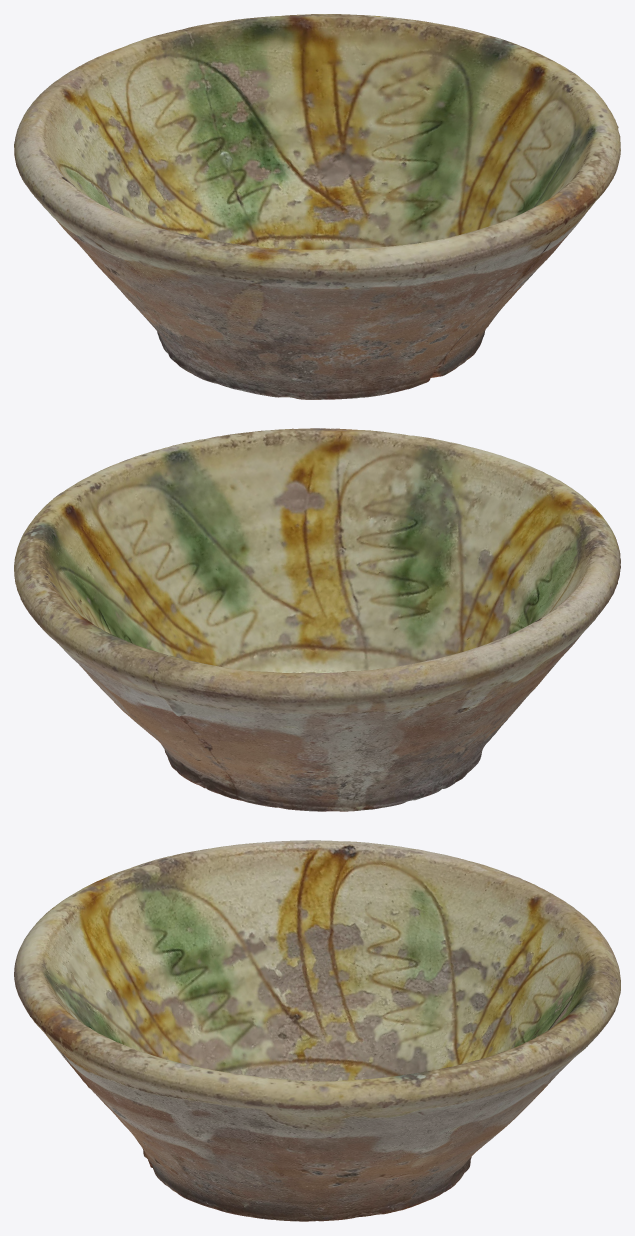
Rendered from bowl_0.glb.
The picture shows the model from 3 angles, top to bottom: view 1: azimuth 30°, elevation 25°; view 2: azimuth 150°, elevation 25°; view 3: azimuth 270°, elevation 25°; orthographic projection.
Parts seen in each view (by area): view 1: baabf607c4e044179f16835f9501aa05; view 2: baabf607c4e044179f16835f9501aa05; view 3: baabf607c4e044179f16835f9501aa05.
Boxes of the visible parts, left/top/right/bottom form: baabf607c4e044179f16835f9501aa05: left=14, top=14, right=620, bottom=399; baabf607c4e044179f16835f9501aa05: left=14, top=428, right=620, bottom=811; baabf607c4e044179f16835f9501aa05: left=14, top=840, right=620, bottom=1221.
Size of the model in its own units: 0.9417 by 0.3441 by 0.9461.
1 material, 1 textured.
